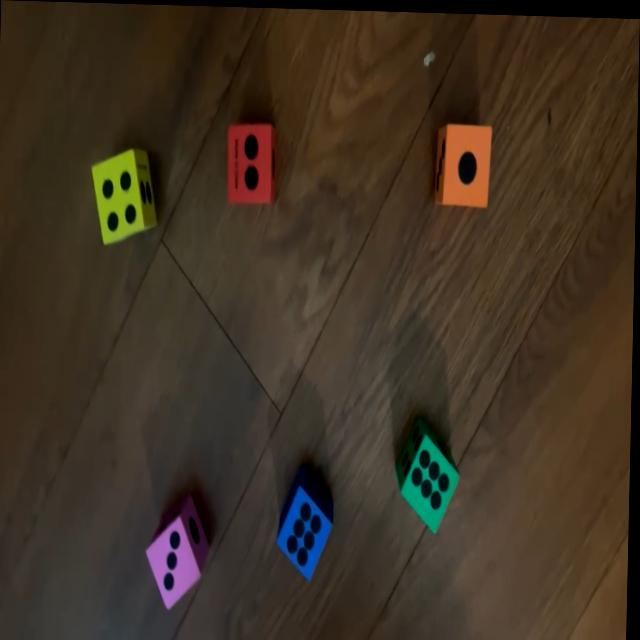blue_block: (279, 470, 335, 579)
red_block: (227, 124, 278, 206)
